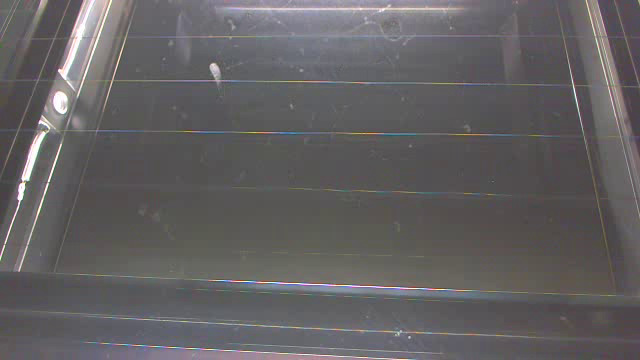alpha: (210, 59, 223, 94)
